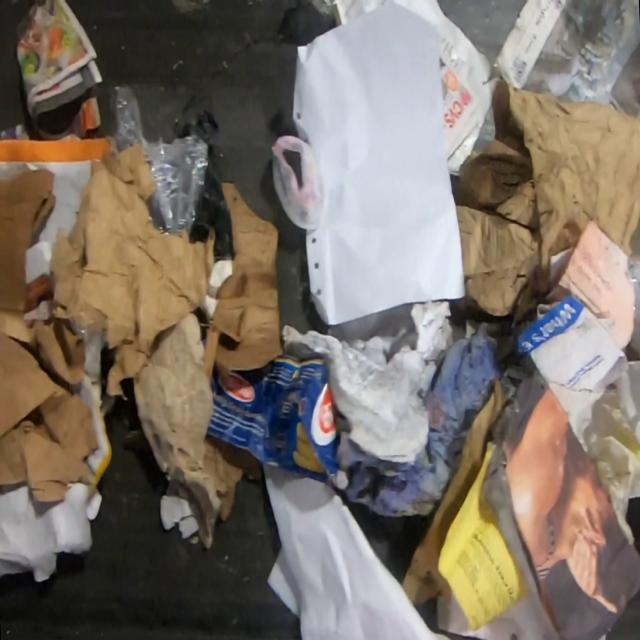cardboard: (399, 376, 504, 607), (0, 310, 98, 503), (207, 352, 340, 484), (206, 181, 280, 372), (0, 169, 56, 310)
rigid_plastic: (625, 253, 640, 359)
soft_plastic: (111, 86, 208, 233), (176, 108, 234, 260), (272, 133, 326, 231)
